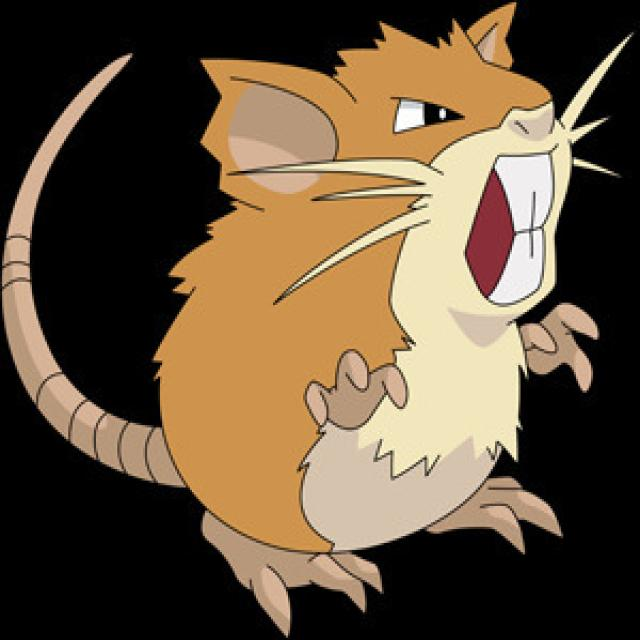Raticate: (140, 51, 578, 576)
